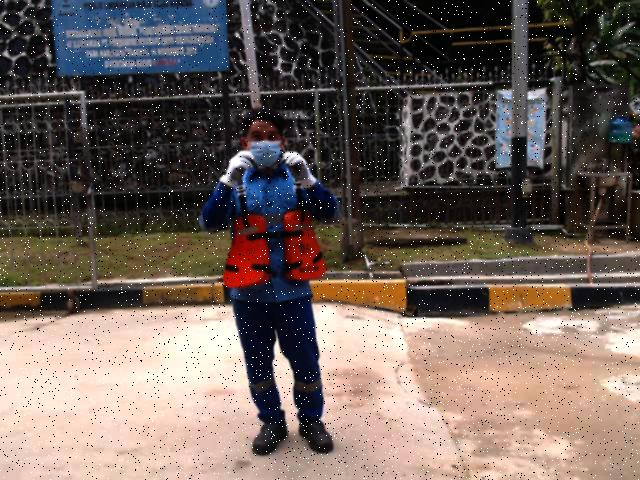glasses: (251, 159, 287, 179)
gloves: (217, 149, 257, 191), (281, 150, 318, 192)
mask: (247, 141, 282, 168)
safety-shoes: (251, 416, 291, 458), (295, 419, 335, 455)
vest: (222, 209, 326, 290)
